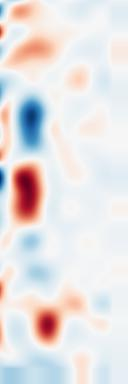filament: (9, 155, 52, 231), (21, 292, 71, 352)
